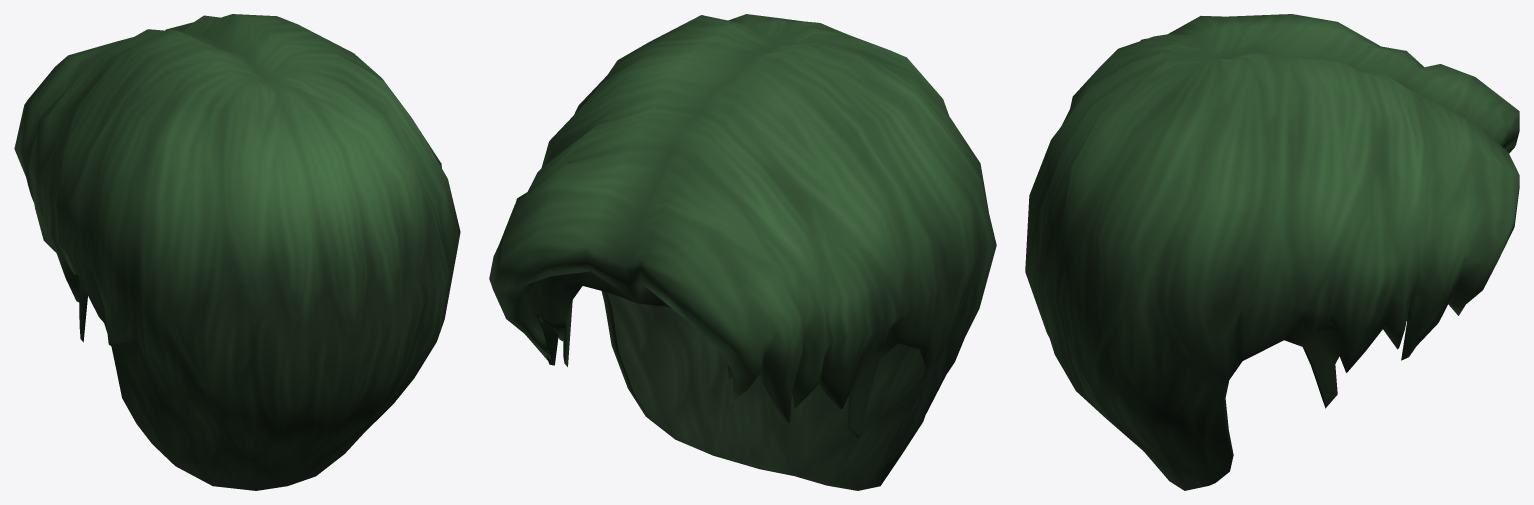
The model's file is Hair_Male_006_textured_green.glb.
3 renders of one model, left to right at view 1: azimuth 30°, elevation 25°; view 2: azimuth 150°, elevation 25°; view 3: azimuth 270°, elevation 25°, orthographic. The views are drawn at different scales.
Visible parts, largest first — view 1: Hair_Male_006; view 2: Hair_Male_006; view 3: Hair_Male_006.
Part boxes in pixels (x1,y1,x2,y2): Hair_Male_006: (14, 14, 460, 490); Hair_Male_006: (489, 14, 996, 490); Hair_Male_006: (1025, 14, 1519, 490).
Size of the model in its own units: 0.195 by 0.2308 by 0.2425.
Materials: 1 (1 with a texture image).
